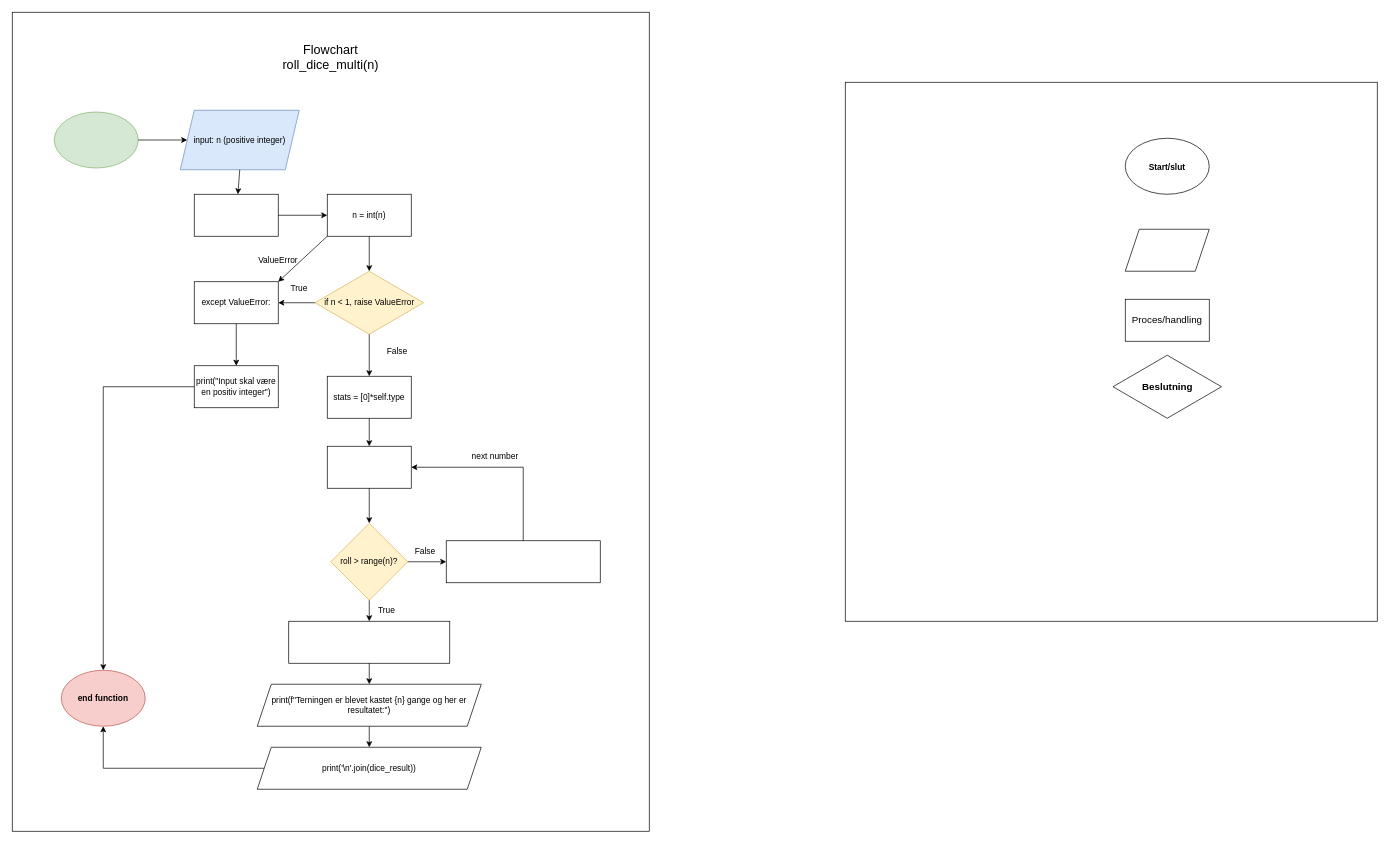
The diagram is 1390 pixels wide and 844 high, and some of its shapes have lost their labels. Each missing label, with the centre of its shape:
dice_result = [f"{i+1}: {stats[i]}" for i in range(self.type)]: point (369, 642)
for roll in range(n): point (369, 467)
input/output: point (1167, 250)
start roll_dice_multi(n): point (96, 139)
stats[randint(0,self.type-1) += 1: point (523, 561)
Try:: point (236, 215)
